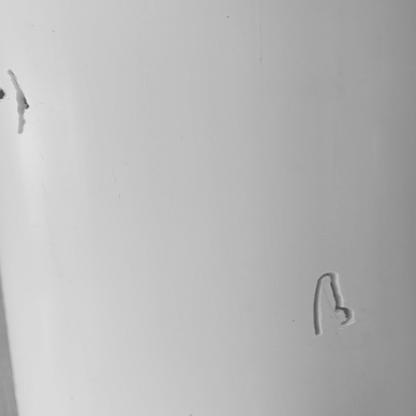fengxi: (304, 264, 359, 335)
kongdong: (5, 63, 34, 132)
